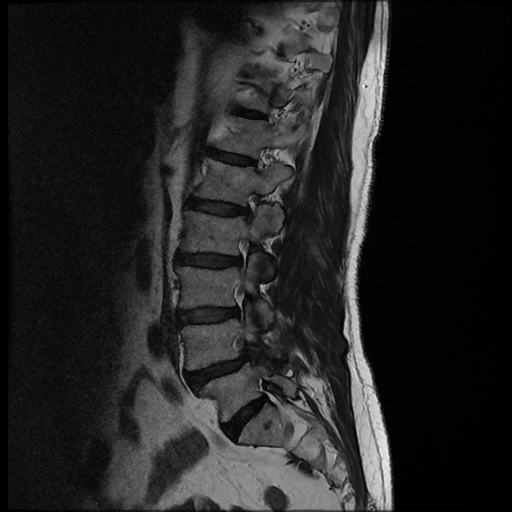RFS1: (233, 185, 267, 230)
